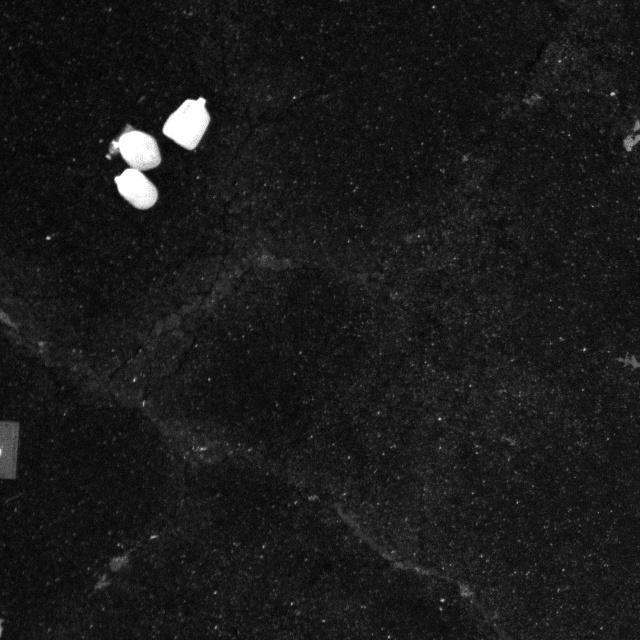can: (157, 87, 211, 153), (111, 123, 166, 173), (114, 161, 164, 208)
